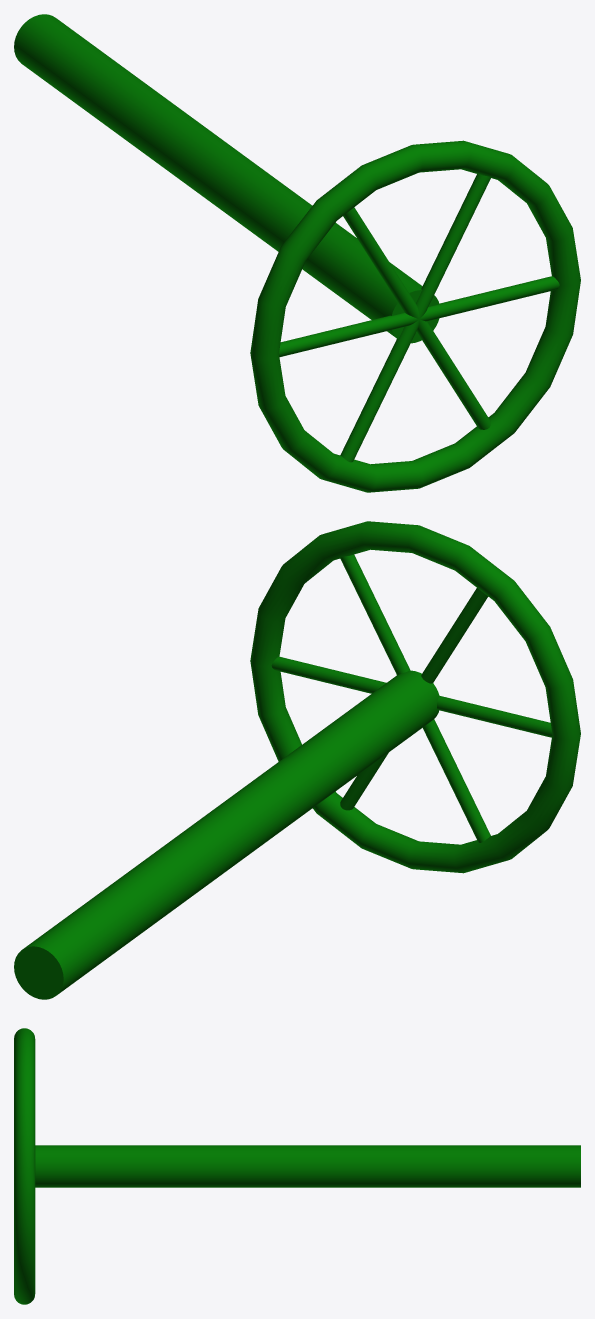
Rendered from Image-1711348148147-2280958052992_VENTILRATT_24.fbx.
3 views of the same model, one above another, from view 1: azimuth 30°, elevation 25°; view 2: azimuth 150°, elevation 25°; view 3: azimuth 270°, elevation 25° (orthographic). The views are drawn at different scales.
Visible parts, largest first — view 1: CYLINDER 1 of SUBEQUIPMENT /FORLENGER_24-4451PV, CTORUS 2 of SUBEQUIPMENT /FORLENGER_24-4451PV, CTORUS 1 of SUBEQUIPMENT /FORLENGER_24-4451PV, CYLINDER 2 of SUBEQUIPMENT /FORLENGER_24-4451PV, CYLINDER 3 of SUBEQUIPMENT /FORLENGER_24-4451PV, CYLINDER 4 of SUBEQUIPMENT /FORLENGER_24-4451PV; view 2: CYLINDER 1 of SUBEQUIPMENT /FORLENGER_24-4451PV, CTORUS 2 of SUBEQUIPMENT /FORLENGER_24-4451PV, CTORUS 1 of SUBEQUIPMENT /FORLENGER_24-4451PV, CYLINDER 2 of SUBEQUIPMENT /FORLENGER_24-4451PV, CYLINDER 3 of SUBEQUIPMENT /FORLENGER_24-4451PV, CYLINDER 4 of SUBEQUIPMENT /FORLENGER_24-4451PV; view 3: CYLINDER 1 of SUBEQUIPMENT /FORLENGER_24-4451PV, CTORUS 1 of SUBEQUIPMENT /FORLENGER_24-4451PV.
Part boxes in pixels (x1,y1,x2,y2): CYLINDER 1 of SUBEQUIPMENT /FORLENGER_24-4451PV: [14, 14, 439, 343]; CTORUS 2 of SUBEQUIPMENT /FORLENGER_24-4451PV: [250, 144, 422, 492]; CTORUS 1 of SUBEQUIPMENT /FORLENGER_24-4451PV: [412, 140, 580, 488]; CYLINDER 2 of SUBEQUIPMENT /FORLENGER_24-4451PV: [340, 174, 490, 462]; CYLINDER 3 of SUBEQUIPMENT /FORLENGER_24-4451PV: [279, 276, 559, 357]; CYLINDER 4 of SUBEQUIPMENT /FORLENGER_24-4451PV: [343, 207, 490, 429]; CYLINDER 1 of SUBEQUIPMENT /FORLENGER_24-4451PV: [14, 670, 439, 999]; CTORUS 2 of SUBEQUIPMENT /FORLENGER_24-4451PV: [408, 525, 580, 873]; CTORUS 1 of SUBEQUIPMENT /FORLENGER_24-4451PV: [250, 521, 418, 868]; CYLINDER 2 of SUBEQUIPMENT /FORLENGER_24-4451PV: [340, 554, 490, 842]; CYLINDER 3 of SUBEQUIPMENT /FORLENGER_24-4451PV: [271, 656, 552, 737]; CYLINDER 4 of SUBEQUIPMENT /FORLENGER_24-4451PV: [340, 588, 488, 810]; CYLINDER 1 of SUBEQUIPMENT /FORLENGER_24-4451PV: [35, 1145, 580, 1187]; CTORUS 1 of SUBEQUIPMENT /FORLENGER_24-4451PV: [14, 1040, 35, 1304].
Size of the model in its own units: 0.526 by 1.07 by 0.526.
